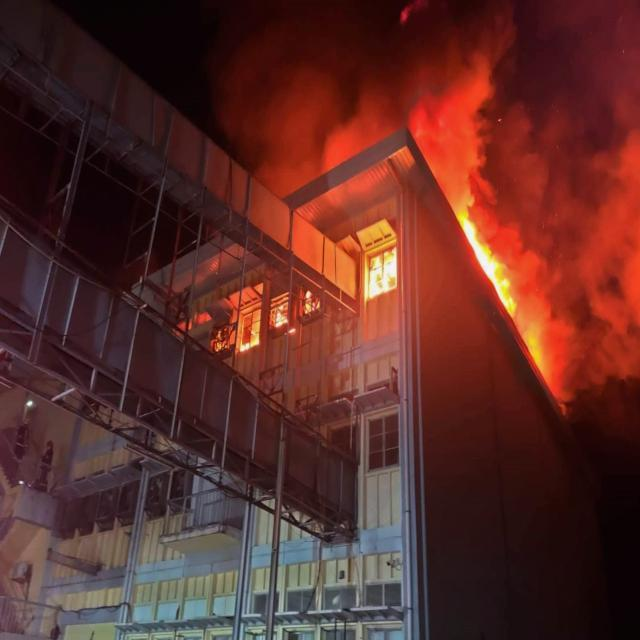Fire: (458, 194, 526, 326), (356, 243, 392, 292)
Smoke: (232, 13, 640, 173), (493, 86, 640, 372)
